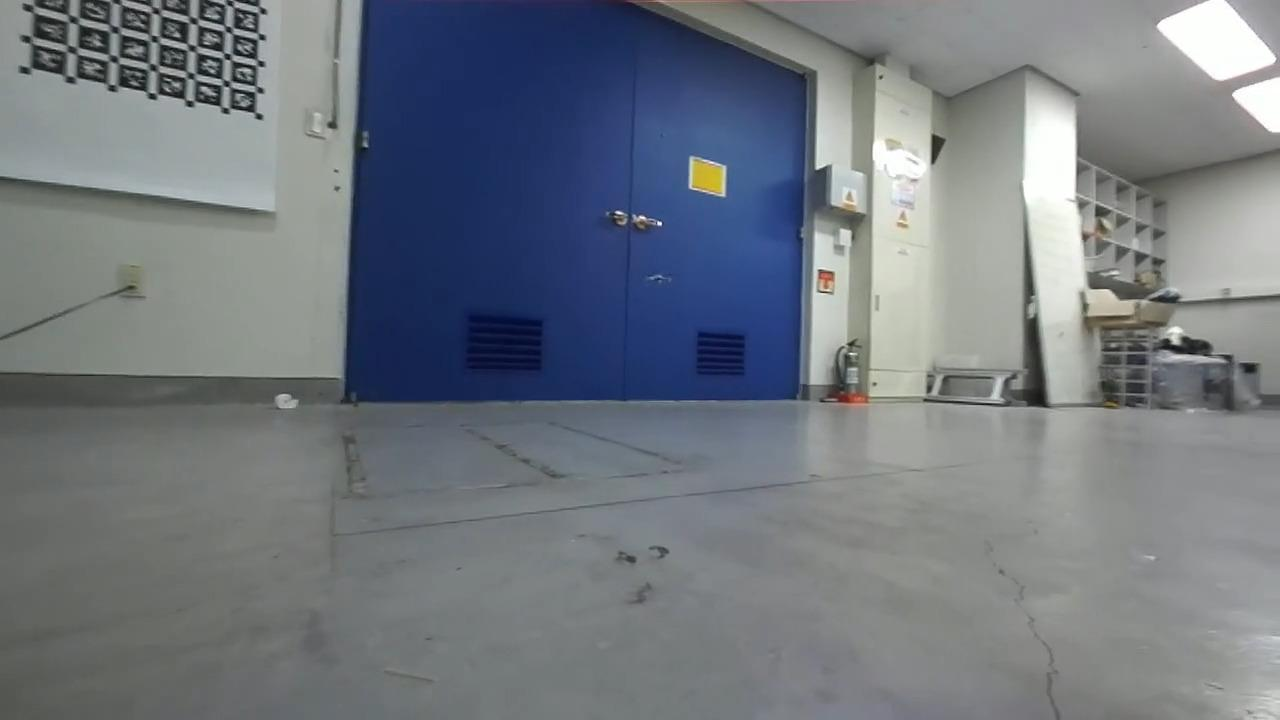crazyflie: (633, 268, 682, 289)
